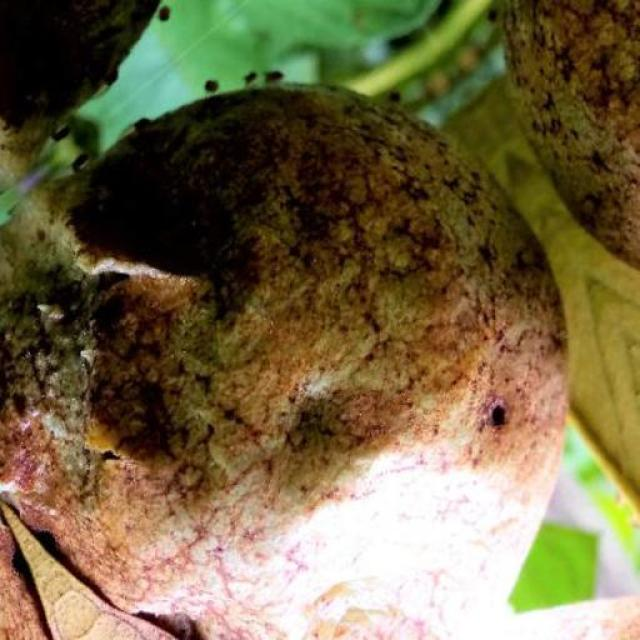Phytopthora: (0, 88, 566, 640), (0, 0, 158, 178)
